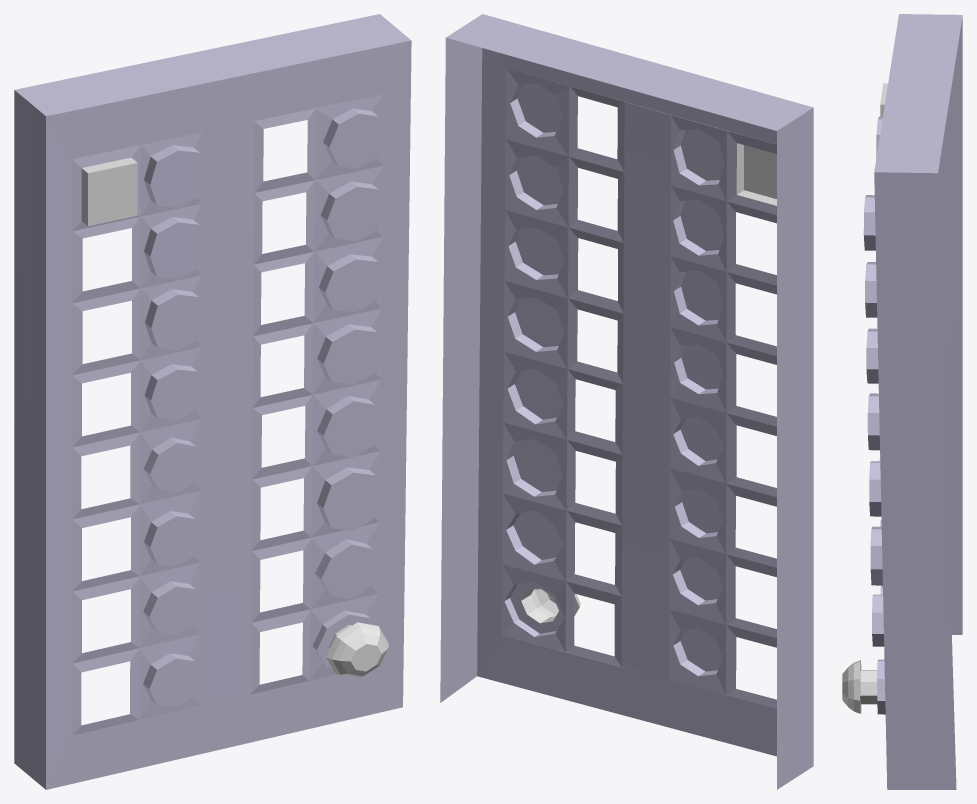
The model's file is ElevatorKeyPad.fbx.
3 renders of one model, left to right at view 1: azimuth 30°, elevation 25°; view 2: azimuth 150°, elevation 25°; view 3: azimuth 270°, elevation 25°, orthographic. The views are drawn at different scales.
Parts seen in each view (by area): view 1: ElevatorKeyPad, ElevatorKey, EmergencyKey; view 2: ElevatorKeyPad, ElevatorKey, EmergencyKey; view 3: ElevatorKeyPad, EmergencyKey.
Part boxes in pixels (x1,y1,x2,y2): ElevatorKeyPad: (14,14,411,789); ElevatorKey: (81,157,137,225); EmergencyKey: (326,622,388,677); ElevatorKeyPad: (440,14,813,789); ElevatorKey: (736,143,776,205); EmergencyKey: (521,588,580,623); ElevatorKeyPad: (863,14,962,789); EmergencyKey: (842,660,877,713).
Size of the model in its own units: 28.79 by 52.24 by 9.2.
